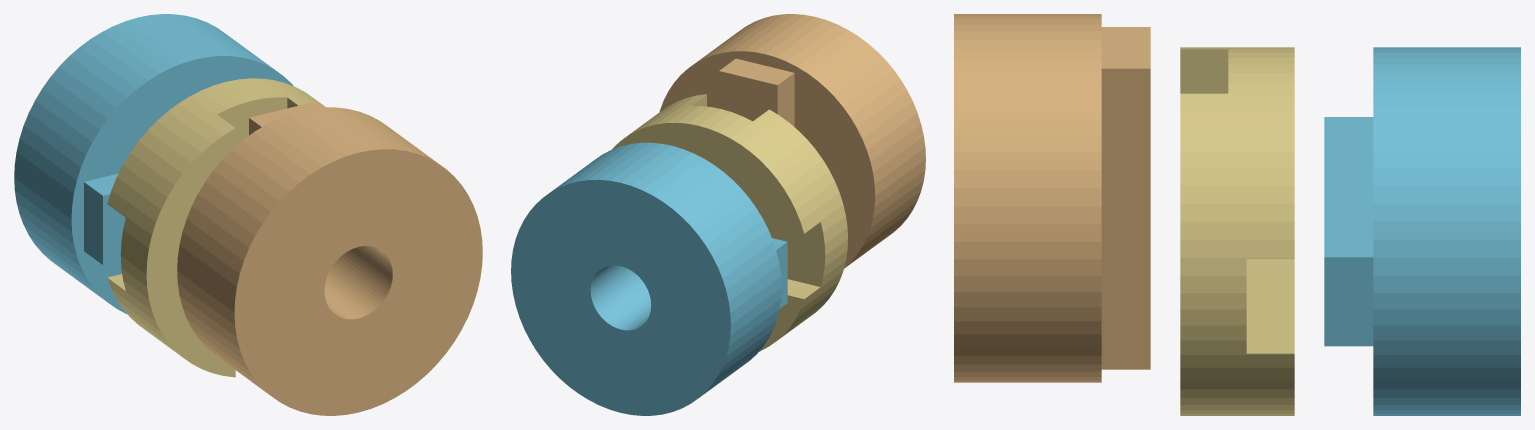
File: oldham_coupling_demo.glb
3 views of the same model, side by side, from view 1: azimuth 30°, elevation 25°; view 2: azimuth 150°, elevation 25°; view 3: azimuth 270°, elevation 25° (orthographic). The views are drawn at different scales.
Parts seen in each view (by area): view 1: tongue_hub_b, tongue_hub_a, cross_slotted_disc; view 2: tongue_hub_a, tongue_hub_b, cross_slotted_disc; view 3: tongue_hub_b, tongue_hub_a, cross_slotted_disc.
Boxes of the visible parts, x1,y1,x2,y2 form: tongue_hub_b: [177, 101, 482, 415]; tongue_hub_a: [14, 14, 293, 314]; cross_slotted_disc: [107, 78, 325, 377]; tongue_hub_a: [511, 142, 787, 415]; tongue_hub_b: [659, 14, 925, 268]; cross_slotted_disc: [612, 94, 847, 351]; tongue_hub_b: [954, 14, 1150, 382]; tongue_hub_a: [1324, 47, 1520, 415]; cross_slotted_disc: [1180, 47, 1294, 415].
Bounding box in the file's own units: 30 × 33 × 46.1.
